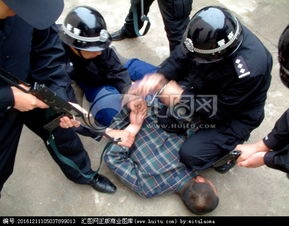falling: (106, 40, 210, 209)
